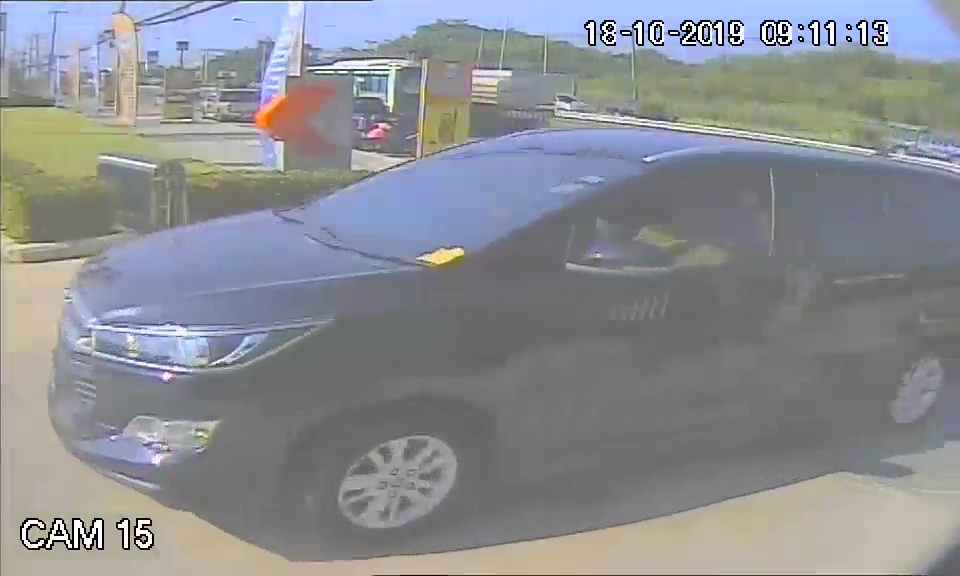van: (48, 112, 960, 530)
